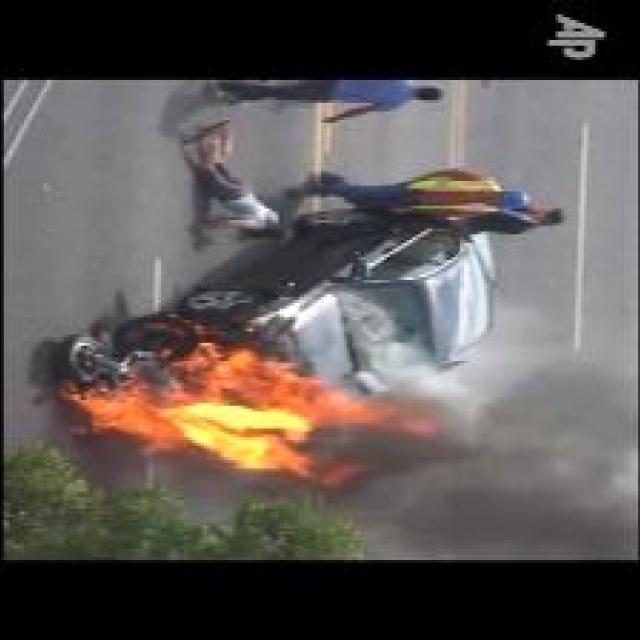Fire: (66, 343, 434, 491)
